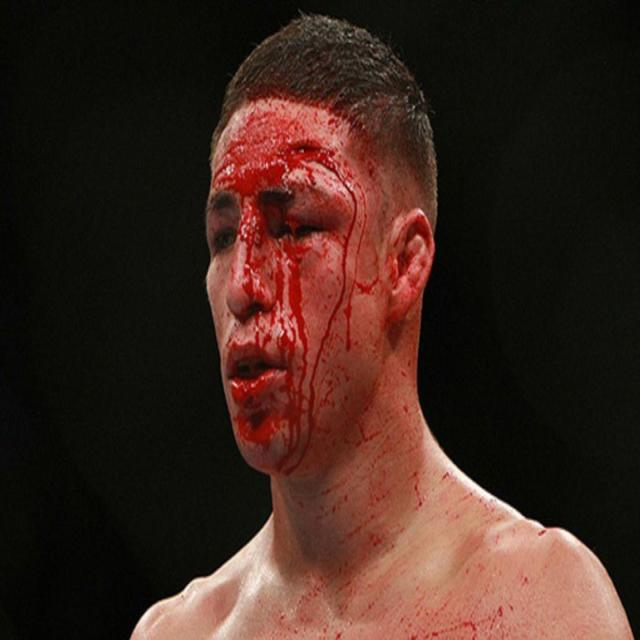flood: (244, 216, 316, 464), (212, 110, 336, 189)
